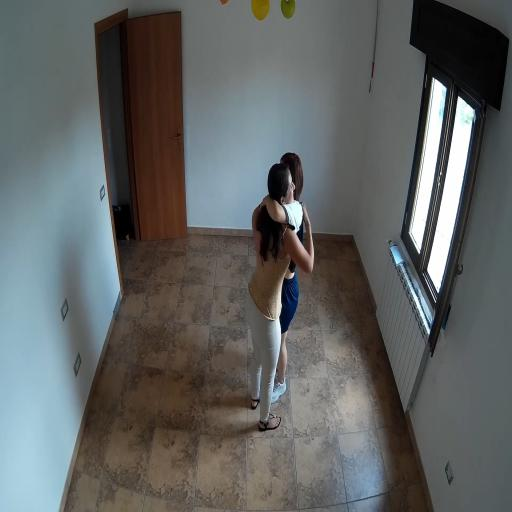nao-violencia: (235, 144, 317, 440)
